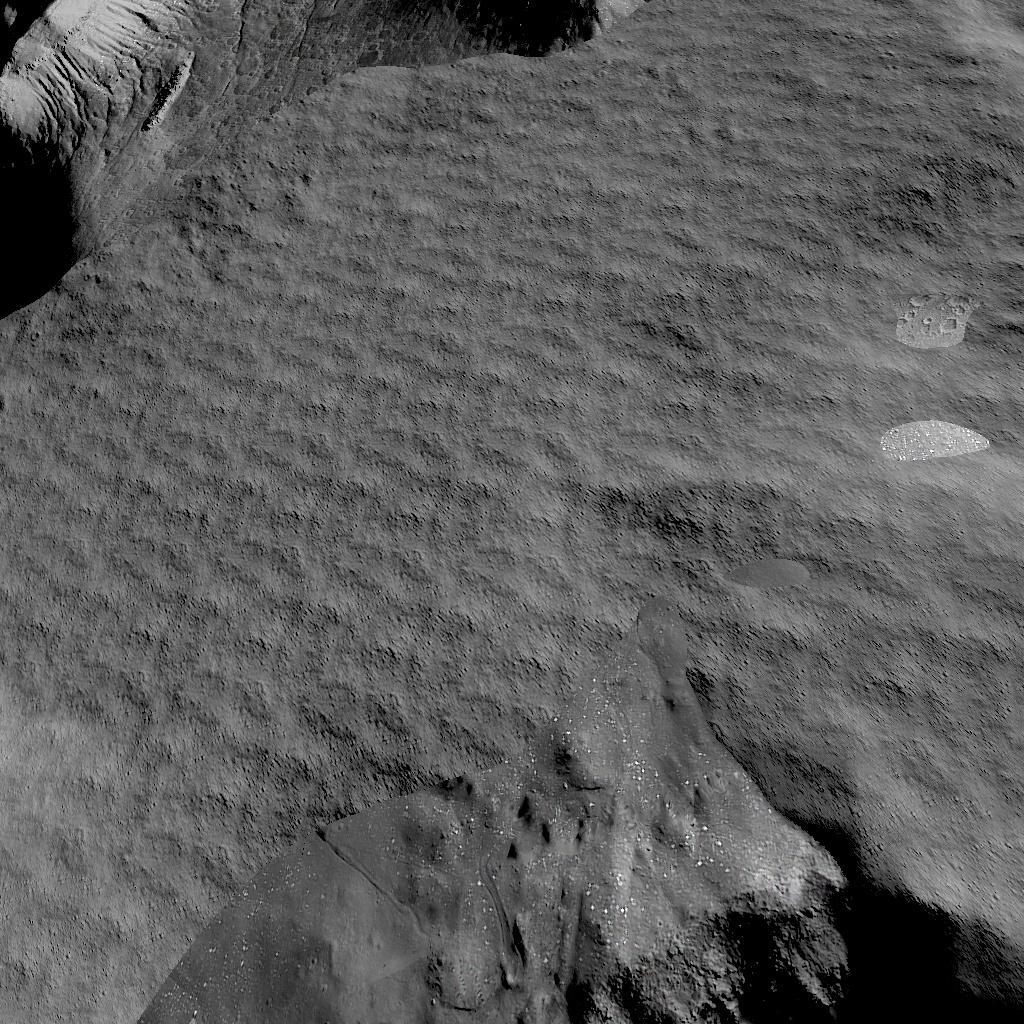Boulders: (0, 0, 660, 333)
Crater: (153, 795, 1024, 1024)
Plan surface: (0, 348, 1024, 780), (678, 0, 1024, 333), (0, 798, 141, 1024)
